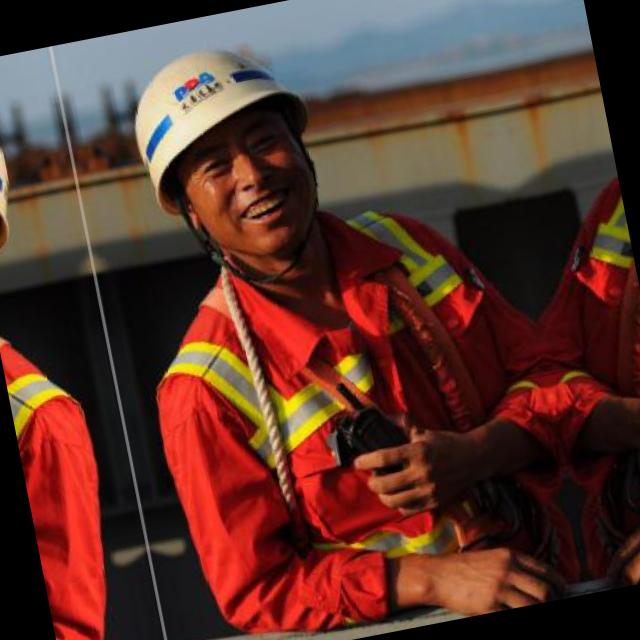helmet: (92, 17, 356, 298), (0, 74, 62, 327)
